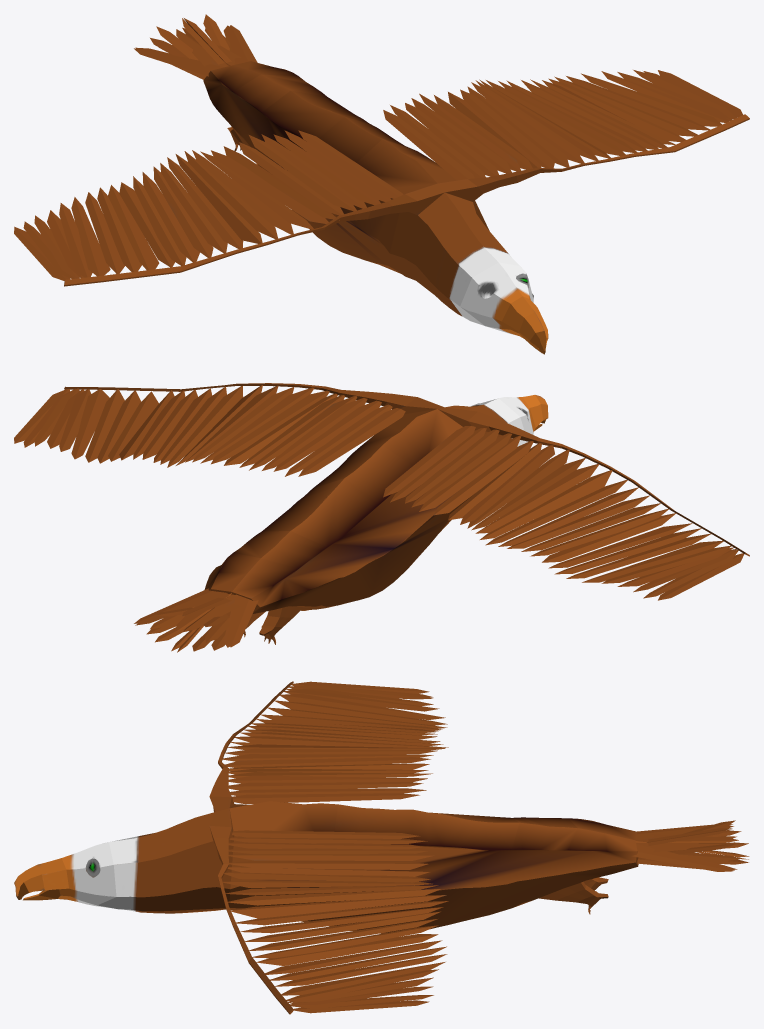
The model's file is eagle.gltf.
3 renders of one model, top to bottom at view 1: azimuth 30°, elevation 25°; view 2: azimuth 150°, elevation 25°; view 3: azimuth 270°, elevation 25°, orthographic.
Visible parts, largest first — view 1: Body(cylinder).001; view 2: Body(cylinder).001; view 3: Body(cylinder).001.
Boxes of the visible parts, x1,y1,x2,y2 form: Body(cylinder).001: (14,14,749,354); Body(cylinder).001: (14,383,749,652); Body(cylinder).001: (14,681,749,1014).
Bounding box in the file's own units: 2.52 × 0.4714 × 2.37.
Materials: 1 (1 with a texture image).
